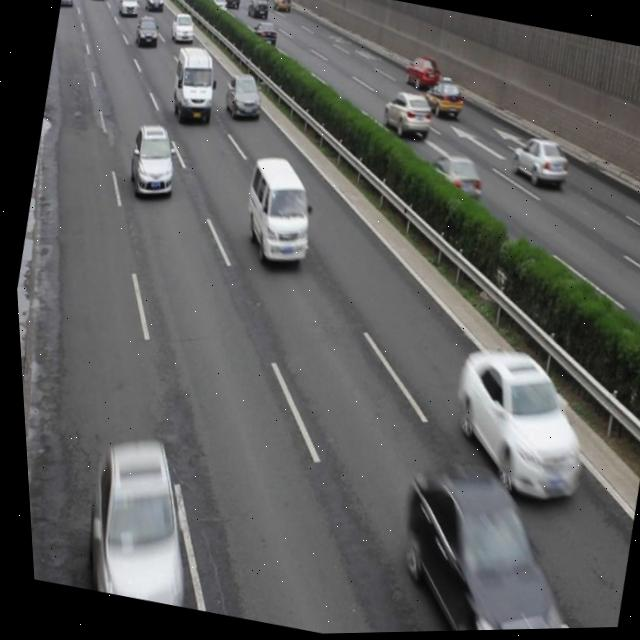car: (372, 453, 579, 634), (432, 340, 597, 513), (63, 429, 202, 608), (121, 119, 182, 202), (504, 131, 571, 195), (419, 148, 485, 209), (375, 87, 435, 143), (217, 70, 265, 125), (418, 75, 466, 124), (399, 53, 443, 96)
truck: (232, 151, 321, 271), (163, 42, 222, 128)
